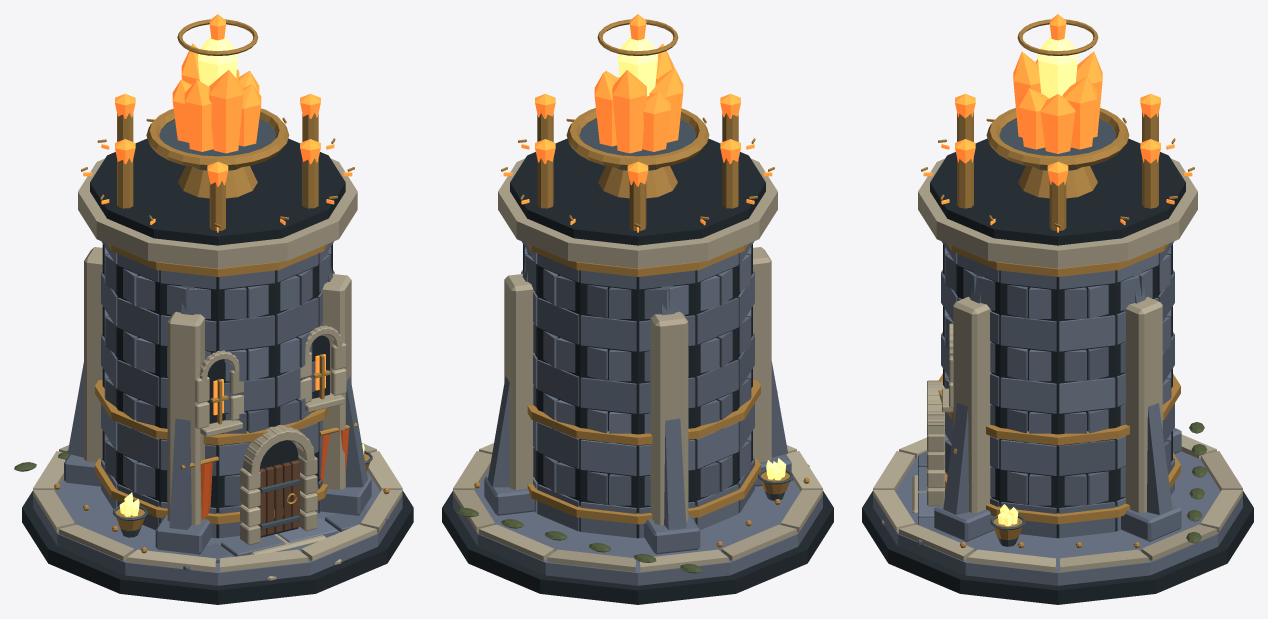
Rendered from mage__piromante__L20.glb.
3 views of the same model, side by side, from view 1: azimuth 30°, elevation 25°; view 2: azimuth 150°, elevation 25°; view 3: azimuth 270°, elevation 25° (orthographic).
Visible parts, largest first — view 1: structure, weapon, banners; view 2: structure, weapon; view 3: structure, weapon.
Part boxes in pixels (x1=…): structure: x1=14, y1=14, x2=413, y2=604; weapon: x1=146, y1=36, x2=289, y2=198; banners: x1=180, y1=422, x2=357, y2=519; structure: x1=442, y1=14, x2=833, y2=604; weapon: x1=566, y1=36, x2=709, y2=198; structure: x1=862, y1=14, x2=1253, y2=604; weapon: x1=986, y1=36, x2=1129, y2=198.
Bounding box in the file's own units: 0.8624 × 1.23 × 0.8624.
